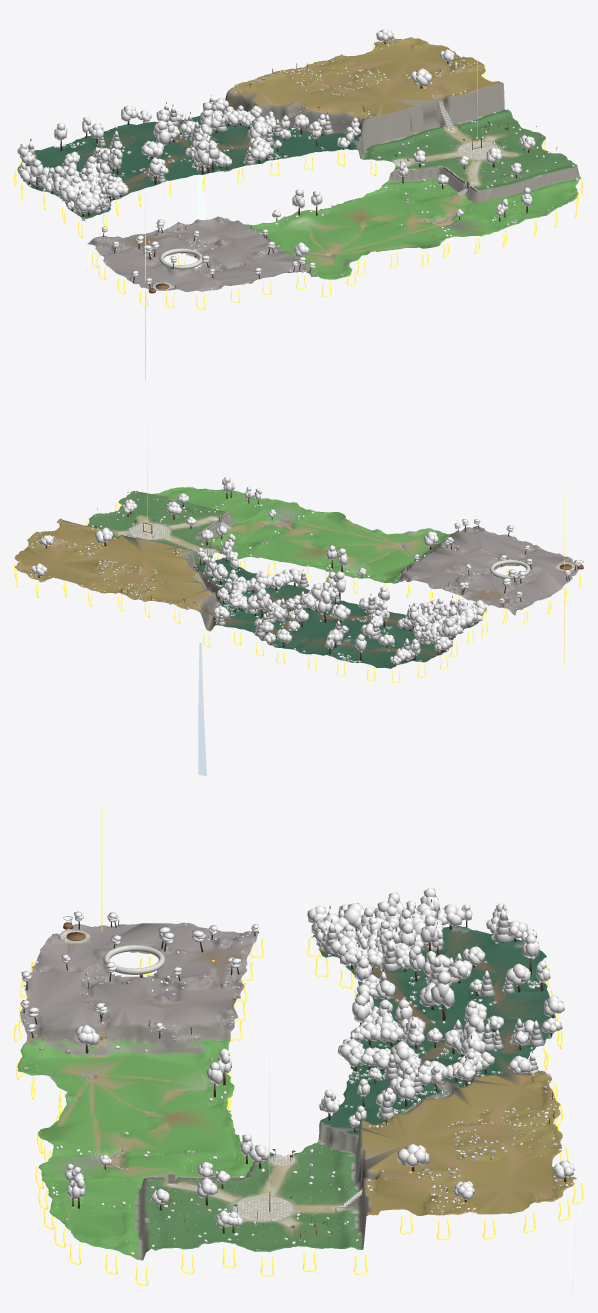
The model's file is ervane.glb.
3 renders of one model, top to bottom at view 1: azimuth 30°, elevation 25°; view 2: azimuth 150°, elevation 25°; view 3: azimuth 270°, elevation 25°, orthographic. The views are drawn at different scales.
Visible parts, largest first — view 1: mo_sol_jeu, mo_agrafes_reunies, mo_objets_reunis, mo_lignes_reunis, mo_sol_pave_0; view 2: mo_sol_jeu, mo_agrafes_reunies, mo_objets_reunis, mo_saut_du_ru, mo_sol_pave_0; view 3: mo_sol_jeu, mo_agrafes_reunies, mo_objets_reunis, mo_sol_pave_0, mo_arbre_2606.
Part boxes in pixels (x1,y1,x2,y2): mo_sol_jeu: (17,37,580,291); mo_agrafes_reunies: (14,44,583,309); mo_objets_reunis: (145,14,557,379); mo_lignes_reunis: (221,89,477,223); mo_sol_pave_0: (458,141,500,159); mo_sol_jeu: (14,487,579,668); mo_agrafes_reunies: (14,503,581,682); mo_objets_reunis: (95,408,583,665); mo_saut_du_ru: (198,642,206,776); mo_sol_pave_0: (130,523,169,539); mo_sol_jeu: (17,922,576,1260); mo_agrafes_reunies: (14,938,583,1285); mo_objets_reunis: (63,805,533,1237); mo_sol_pave_0: (233,1196,293,1221); mo_arbre_2606: (431,971,455,1020).
Bounding box in the file's own units: 239 × 134 × 177.
